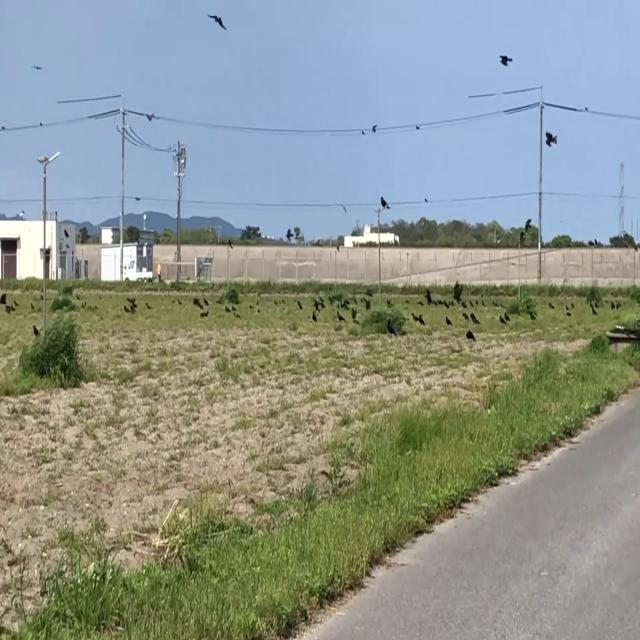bird: (208, 7, 226, 38), (499, 44, 512, 72), (544, 123, 556, 151), (379, 192, 388, 214), (470, 310, 476, 328), (148, 108, 154, 124), (372, 120, 377, 136), (612, 297, 615, 313)
